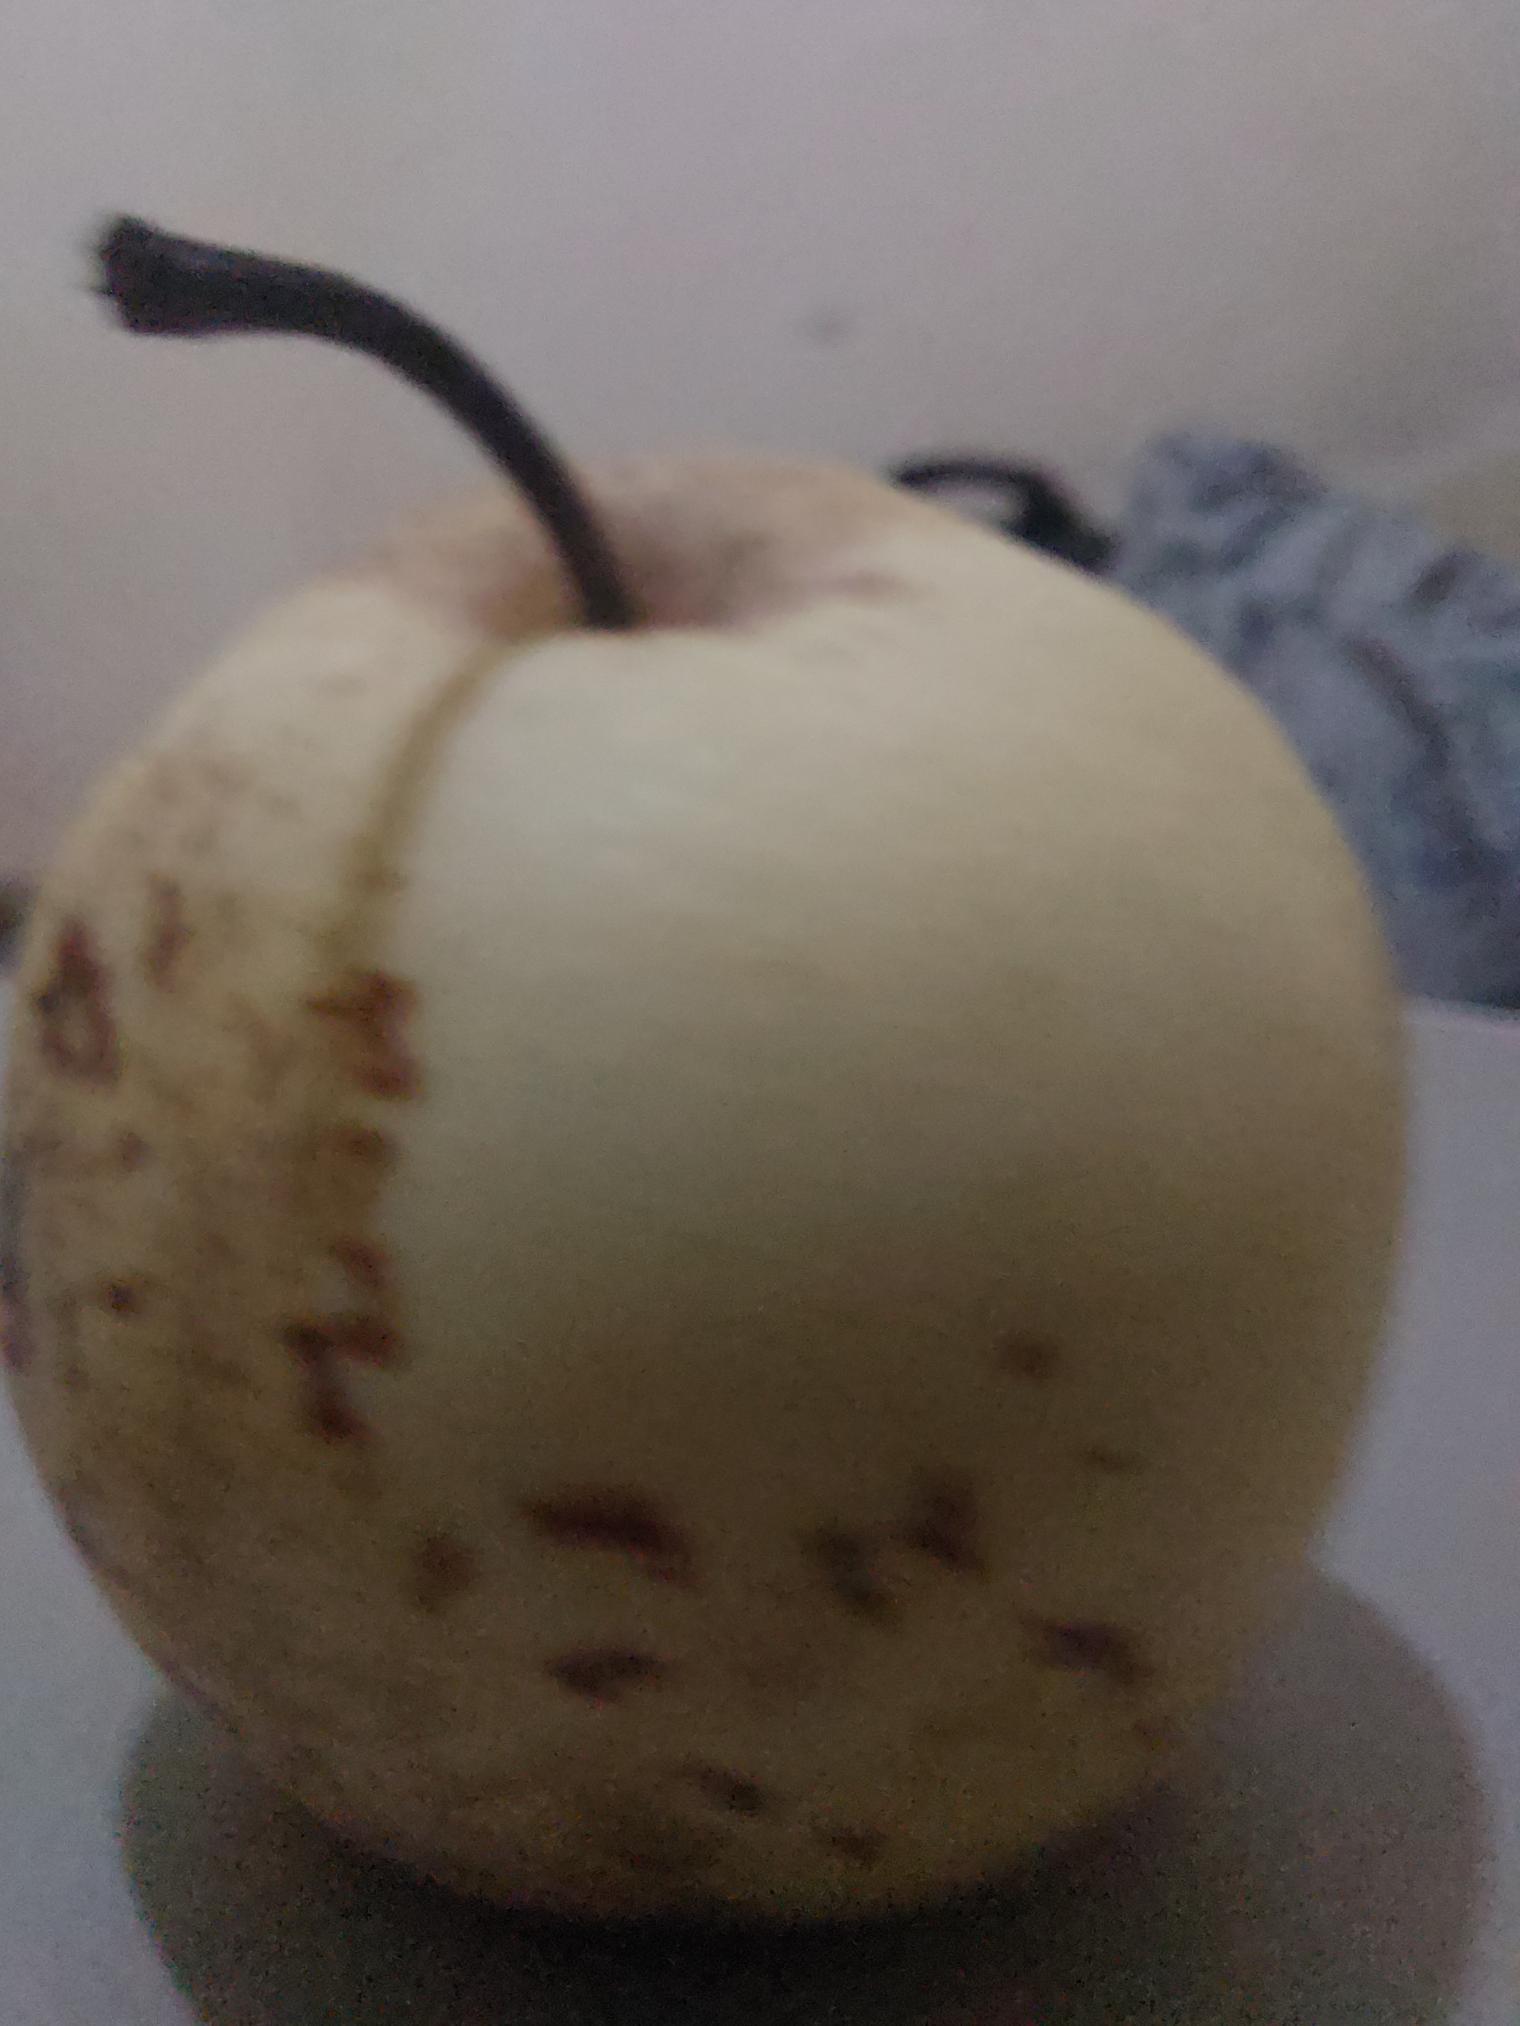Bad Pear: (0, 436, 1432, 1948)
